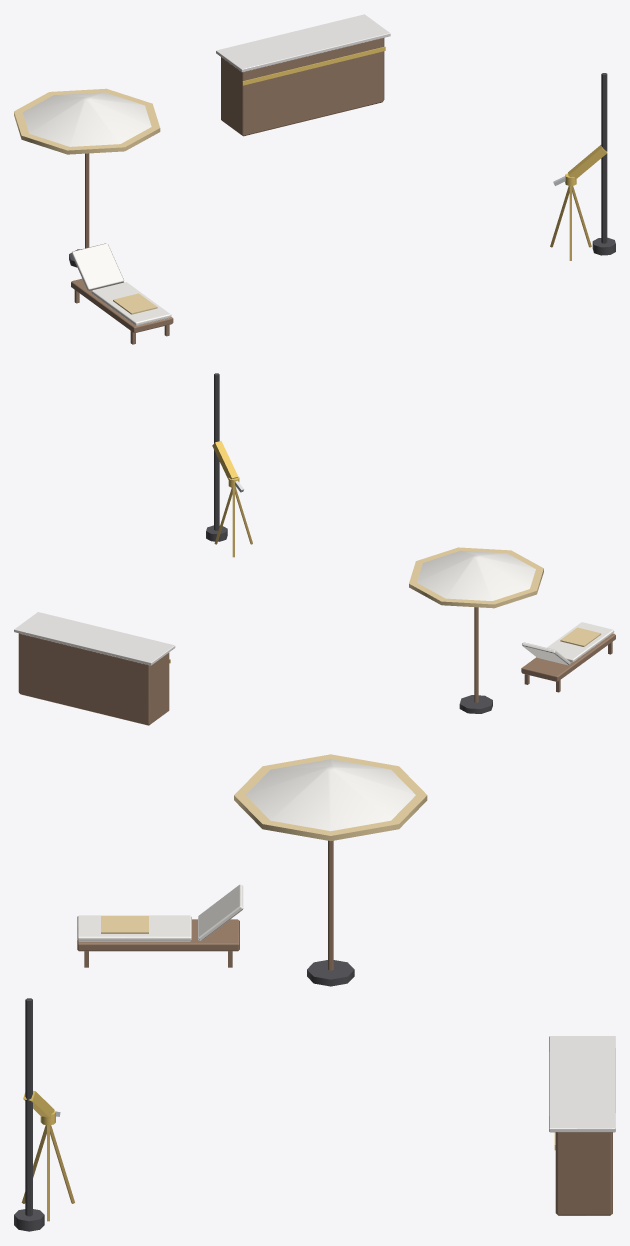
File: einrichtung_dachterrasse_buehne.glb
The picture shows the model from 3 angles, top to bottom: view 1: azimuth 30°, elevation 25°; view 2: azimuth 150°, elevation 25°; view 3: azimuth 270°, elevation 25°; orthographic projection. The views are drawn at different scales.
Parts seen in each view (by area): view 1: einrichtung_dachterrasse_buehne; view 2: einrichtung_dachterrasse_buehne; view 3: einrichtung_dachterrasse_buehne.
Boxes of the visible parts, x1,y1,x2,y2 form: einrichtung_dachterrasse_buehne: (14, 14, 615, 344); einrichtung_dachterrasse_buehne: (14, 373, 615, 725); einrichtung_dachterrasse_buehne: (14, 754, 615, 1231).
Bounding box in the file's own units: 7.32 × 2.6 × 6.29.
